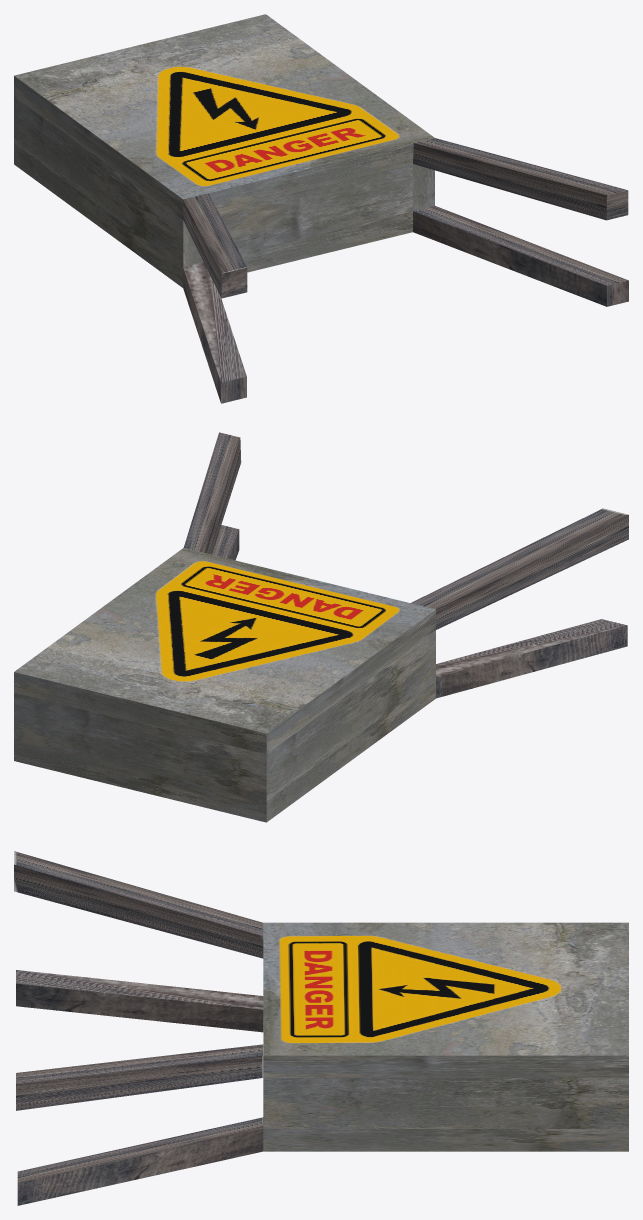
Rendered from Danger.fbx.
The picture shows the model from 3 angles, top to bottom: view 1: azimuth 30°, elevation 25°; view 2: azimuth 150°, elevation 25°; view 3: azimuth 270°, elevation 25°; orthographic projection. The views are drawn at different scales.
Parts seen in each view (by area): view 1: Danger; view 2: Danger; view 3: Danger.
Boxes of the visible parts, left/top/right/bottom form: Danger: left=14, top=14, right=628, bottom=403; Danger: left=14, top=432, right=628, bottom=822; Danger: left=14, top=851, right=628, bottom=1205.
Bounding box in the file's own units: 16286 × 4977 × 19622.
